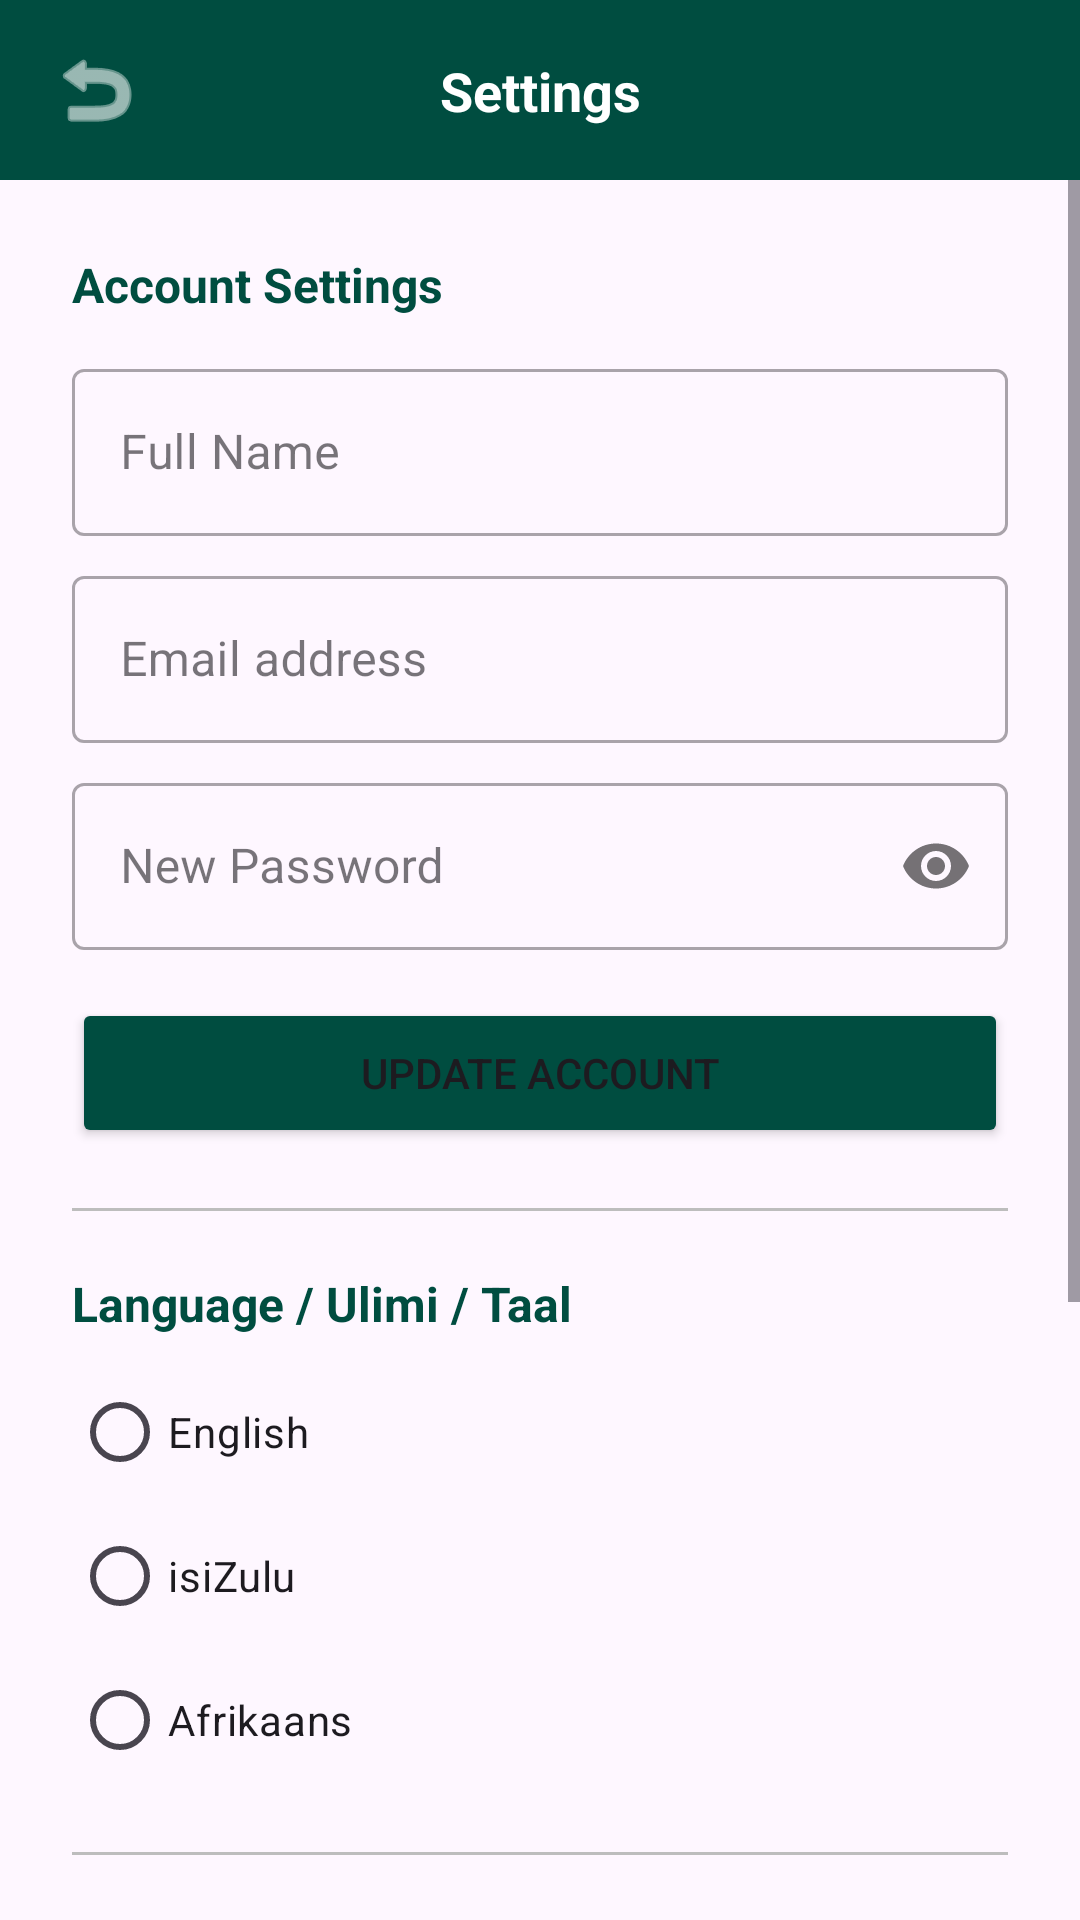

Icons on this 1080px x 1920px Android screen, each with the point to tap as [x,y]:
Back: [97,90]
